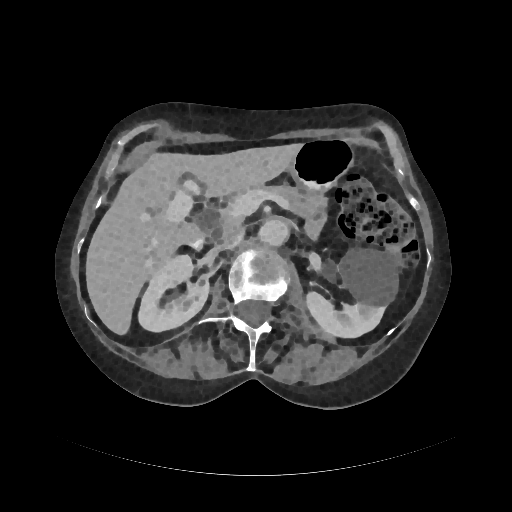Lesion: (336, 245, 402, 308)
